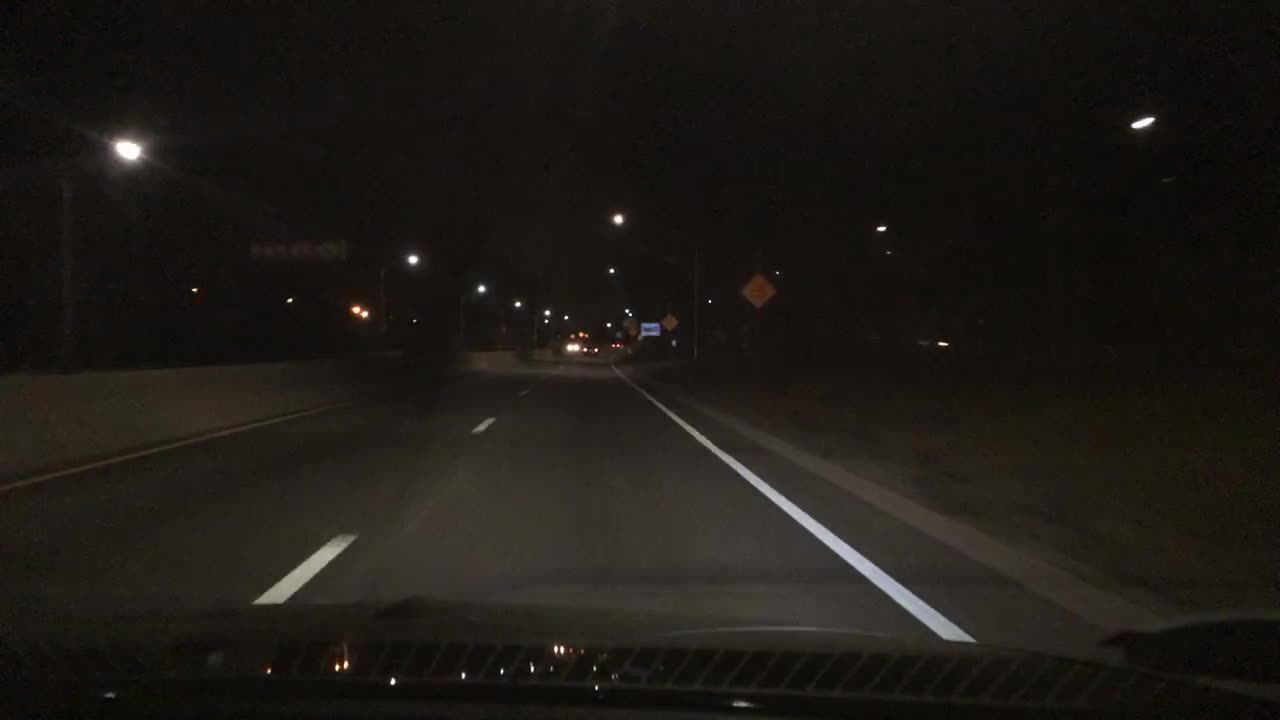car: (582, 343, 598, 355), (565, 342, 578, 352), (610, 342, 620, 348)
traffic light: (350, 306, 369, 319)
traffic sign: (741, 274, 774, 307), (663, 311, 676, 332), (626, 326, 636, 335)
